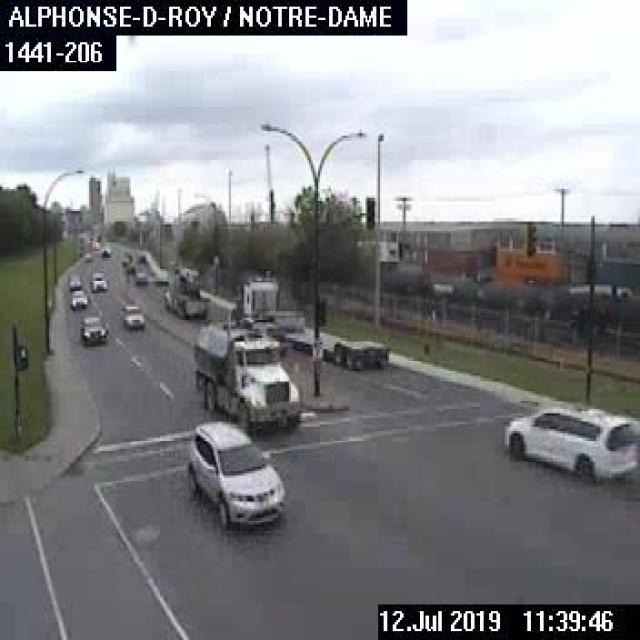vehicle: (231, 271, 390, 377), (188, 310, 298, 435), (182, 414, 290, 527), (500, 402, 638, 482), (159, 263, 211, 319), (120, 300, 144, 329), (78, 316, 104, 342), (88, 269, 106, 291), (71, 285, 86, 309), (134, 264, 149, 284), (98, 242, 111, 256), (82, 249, 93, 262)
